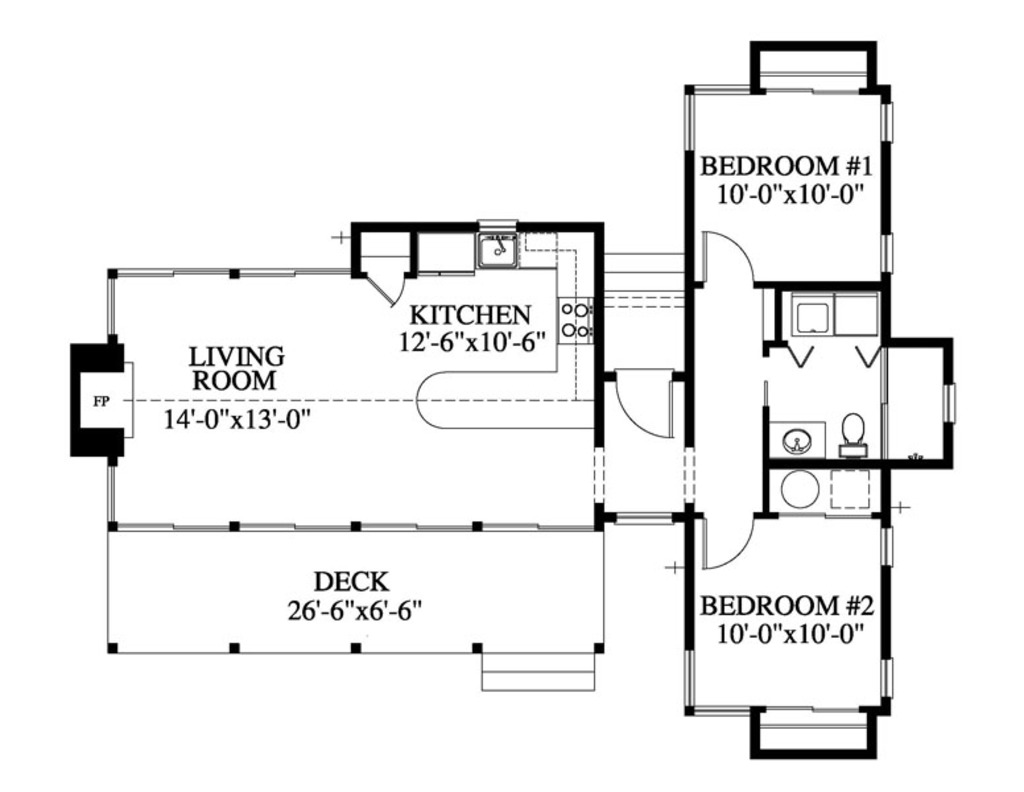door: (613, 368, 674, 442), (696, 226, 758, 288), (697, 510, 759, 570), (357, 266, 409, 305)
large_sink: (831, 412, 875, 460)
sink: (475, 235, 523, 270)
small_sink: (769, 420, 830, 464)
windows: (610, 509, 671, 528), (688, 698, 749, 716), (877, 655, 899, 703), (874, 523, 897, 565), (683, 643, 696, 705), (874, 101, 894, 141), (940, 376, 956, 421), (877, 234, 893, 272)
